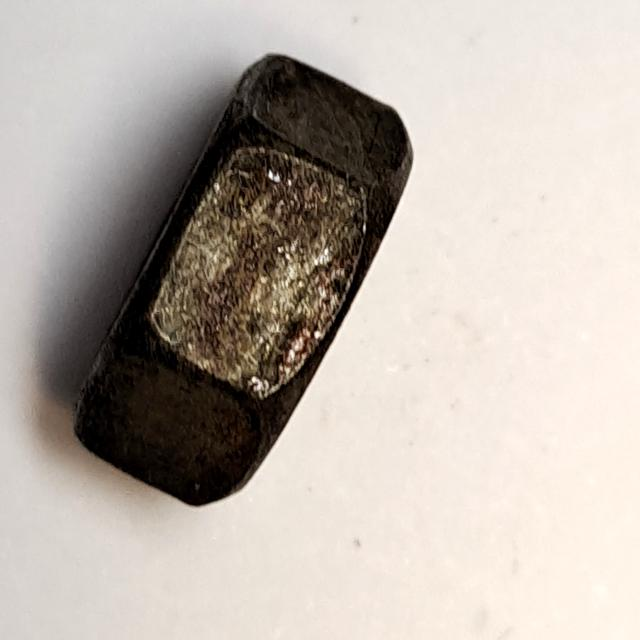Side_Rust: (59, 34, 429, 522)
